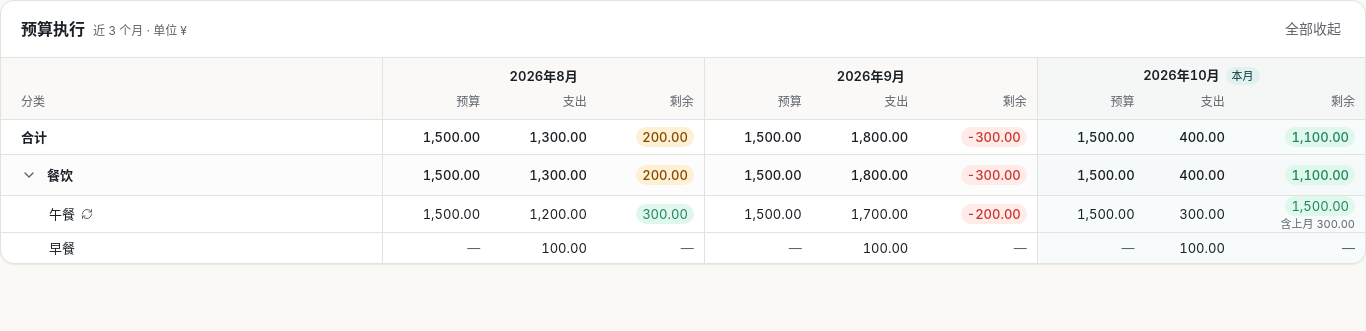
Scenario: BudgetGrid › shows the reason and the amount as it was when saving fails
Click the button named "修改「午餐」2026年8月的预算" at (437, 214), box x1=389 y1=200 x2=484 y2=228
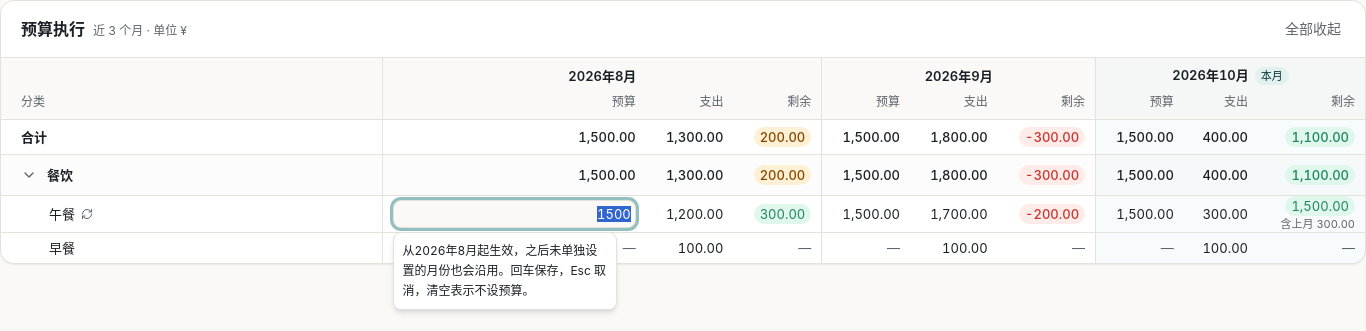
Type keys "2000{Enter}"
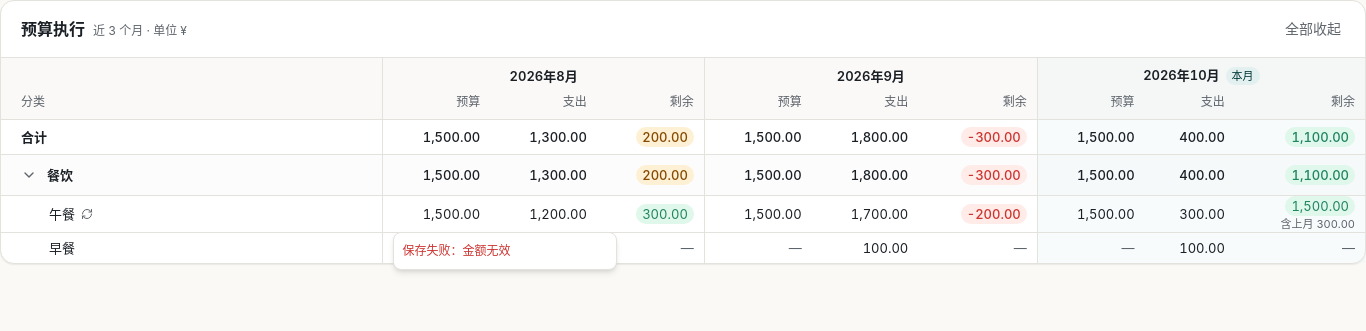
Result: the message reads "保存失败：金额无效" at x1=402 y1=243 x2=510 y2=258
Result: the 7th text "1,500.00" is shown at x1=423 y1=205 x2=480 y2=223
